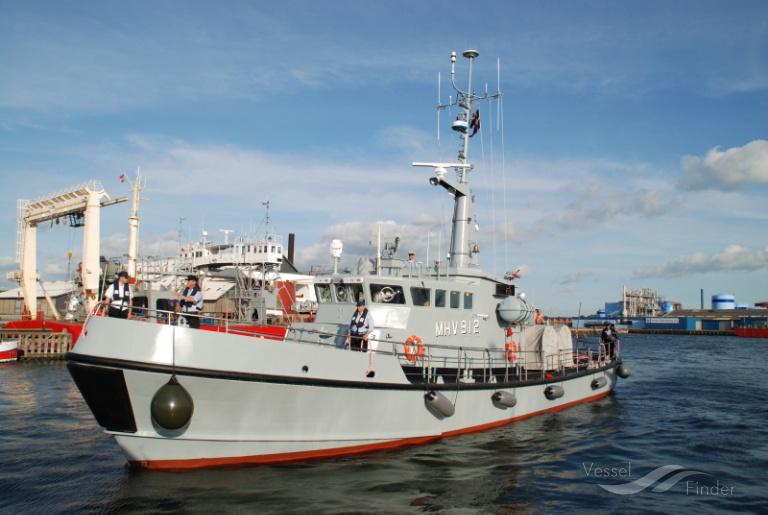OCR: (432, 317, 484, 344)
